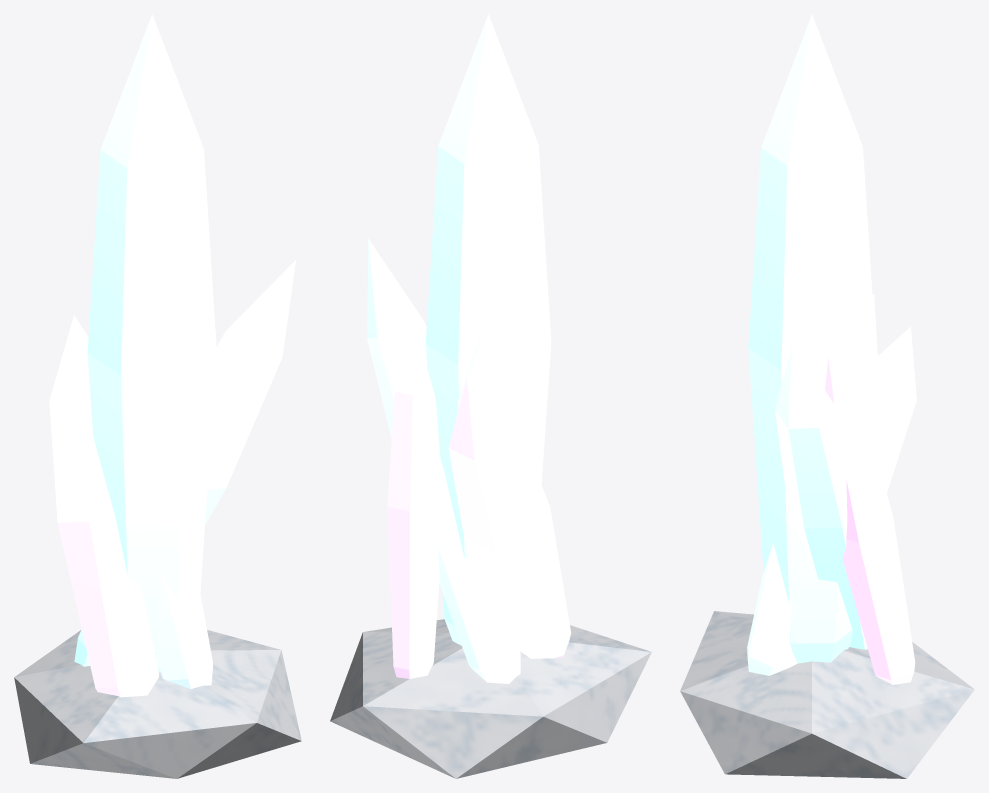
Rendered from prism_crystal.gltf.
3 renders of one model, left to right at view 1: azimuth 30°, elevation 25°; view 2: azimuth 150°, elevation 25°; view 3: azimuth 270°, elevation 25°, orthographic. The views are drawn at different scales.
Parts seen in each view (by area): view 1: prism_crystal; view 2: prism_crystal; view 3: prism_crystal.
Boxes of the visible parts, x1,y1,x2,y2 form: prism_crystal: (14, 14, 301, 778); prism_crystal: (330, 14, 651, 778); prism_crystal: (680, 14, 974, 778).
Bounding box in the file's own units: 0.5943 × 1.65 × 0.6014.
Materials: 1 (1 with a texture image).
